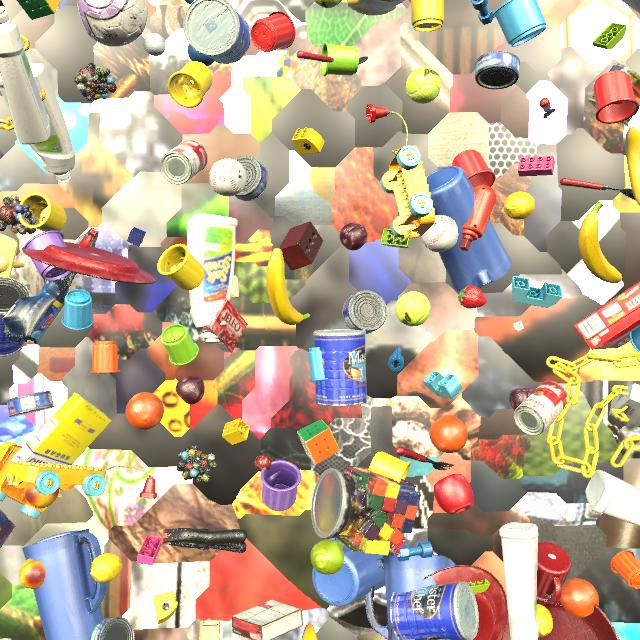ycb_002_master_chef_can: (390, 582, 479, 640), (183, 0, 251, 64), (313, 329, 367, 406), (0, 276, 31, 357)
ycb_003_cracker_box: (574, 281, 640, 350)
ycb_004_sugar_box: (10, 392, 111, 465), (609, 383, 640, 427), (621, 0, 640, 13)
ycb_005_tomato_soup_can: (513, 381, 568, 436), (160, 140, 208, 184)
ycb_006_mustard_bottle: (347, 0, 405, 16)
ycb_007_tuna_fish_can: (342, 290, 387, 334), (475, 51, 520, 89), (234, 156, 268, 201), (7, 391, 54, 417), (90, 617, 135, 640)
ycb_008_pudding_box: (232, 600, 303, 640)
ycb_009_gelatin_box: (202, 298, 248, 353)
ycb_010_potted_meat_can: (588, 63, 640, 126)
ycb_011_banana: (579, 202, 622, 283), (266, 248, 310, 325), (625, 127, 640, 206), (302, 624, 318, 640)
ycb_012_strawberry: (458, 285, 486, 308)
ycb_013_apple: (433, 474, 474, 515)
ycb_014_lemon: (90, 553, 122, 583), (504, 192, 535, 219), (537, 604, 553, 637)
ycb_015_peach: (24, 482, 59, 508), (19, 559, 46, 589)
ycb_016_pear: (310, 539, 344, 575)
ycb_017_orange: (560, 578, 599, 618), (429, 415, 468, 453), (126, 392, 164, 430)
ycb_018_plum: (176, 376, 205, 405), (340, 223, 368, 251), (509, 388, 534, 410)
